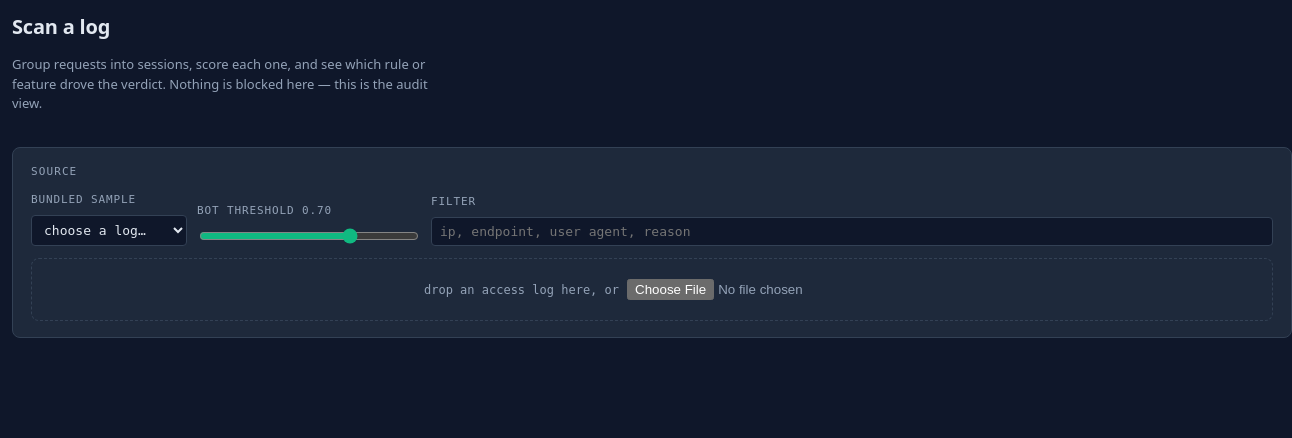
ScanTab › says what went wrong when the scan fails
Select "x.log (1 lines)" in the dropdown labelled "bundled sample" at coordinates (109, 230), box [31,214,187,246]
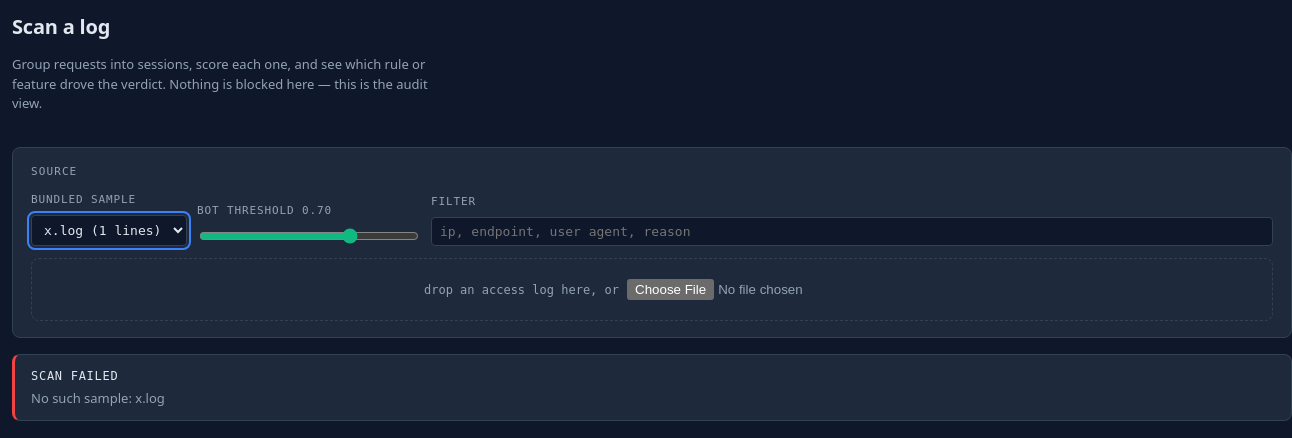
Expected: the text "No such sample: x.log" is shown, [31,388,165,406]
